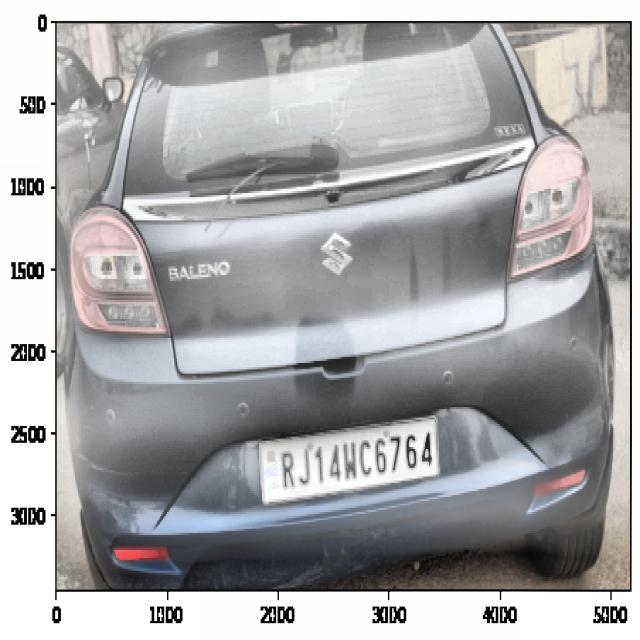license_plate: (269, 424, 438, 494)
